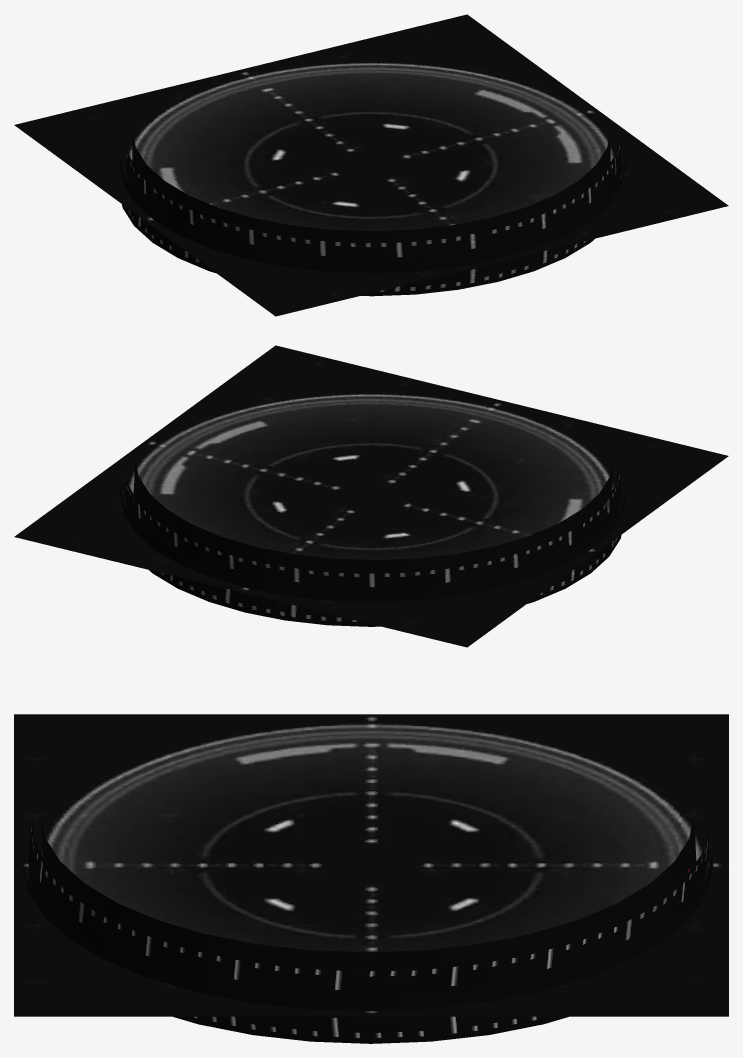
File: ufo_disturb.glb
3 renders of one model, top to bottom at view 1: azimuth 30°, elevation 25°; view 2: azimuth 150°, elevation 25°; view 3: azimuth 270°, elevation 25°, orthographic. The views are drawn at different scales.
Parts seen in each view (by area): view 1: FX_Radar, FX_Rular (×2), FX_Mumber; view 2: FX_Radar, FX_Rular (×2), FX_Mumber; view 3: FX_Radar, FX_Rular (×2), FX_Mumber.
Part boxes in pixels (bbox=[...]): FX_Radar: bbox=[14, 14, 728, 316]; FX_Rular (×2): bbox=[120, 132, 626, 296]; FX_Mumber: bbox=[132, 131, 610, 238]; FX_Radar: bbox=[14, 345, 728, 647]; FX_Rular (×2): bbox=[120, 463, 626, 626]; FX_Mumber: bbox=[133, 459, 613, 569]; FX_Radar: bbox=[14, 714, 728, 1016]; FX_Rular (×2): bbox=[21, 817, 713, 1043]; FX_Mumber: bbox=[40, 815, 696, 965].
Size of the model in its own units: 10 by 1.3 by 10.
Materials: 4 (4 with a texture image).
